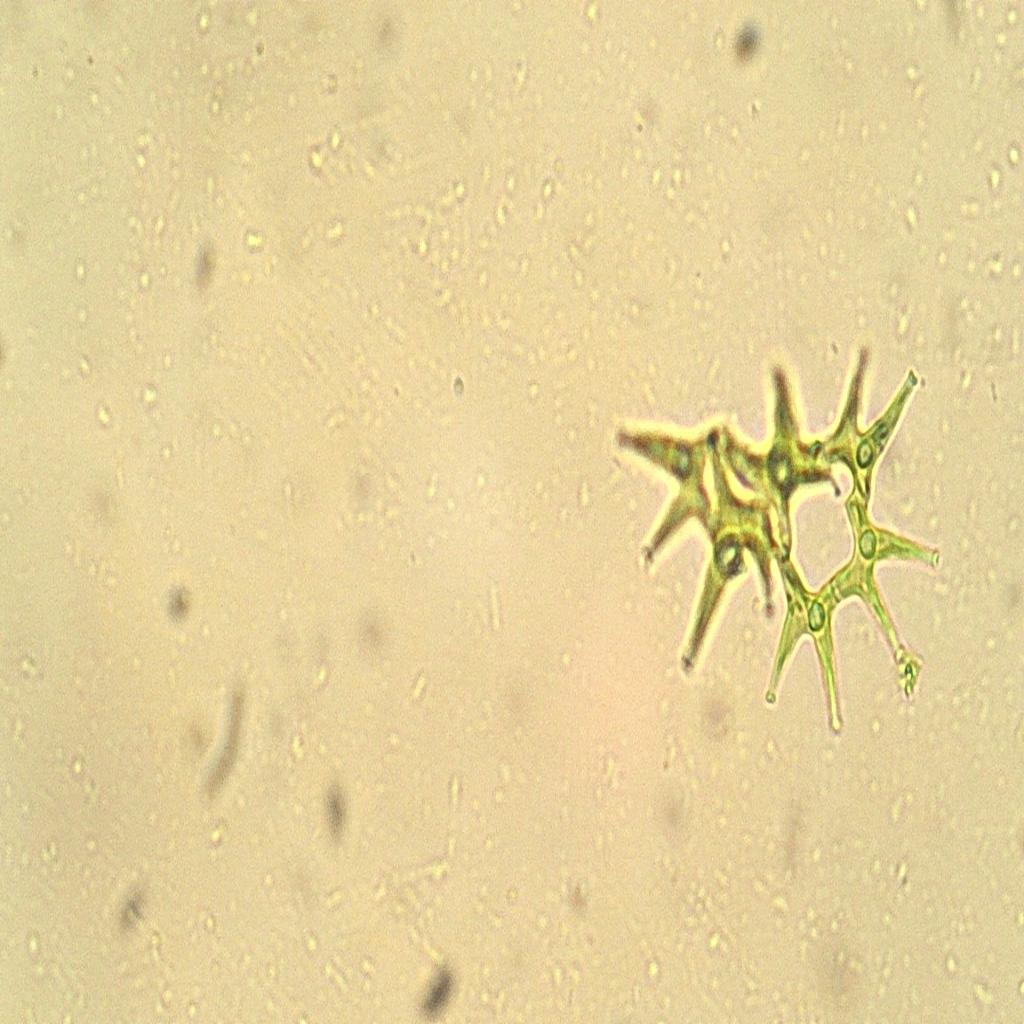Pediastrum_CFI: (602, 305, 956, 756)
